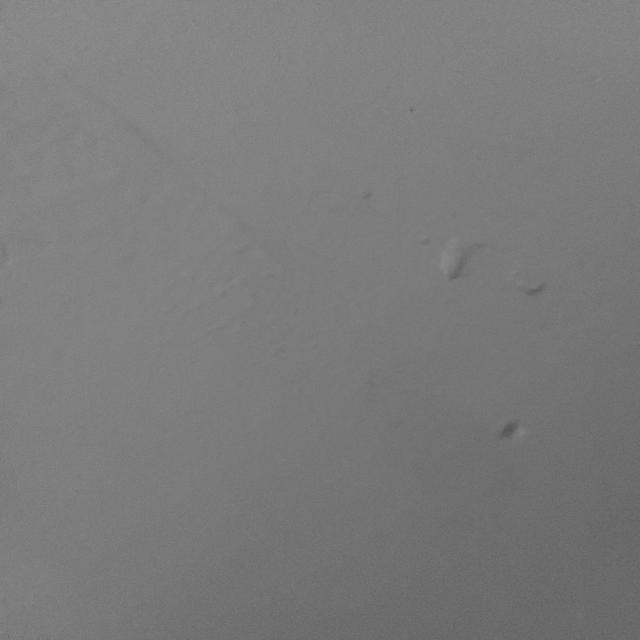rough and patchy surface: (19, 297, 382, 610), (26, 39, 294, 267), (420, 220, 563, 321), (482, 402, 536, 450)
